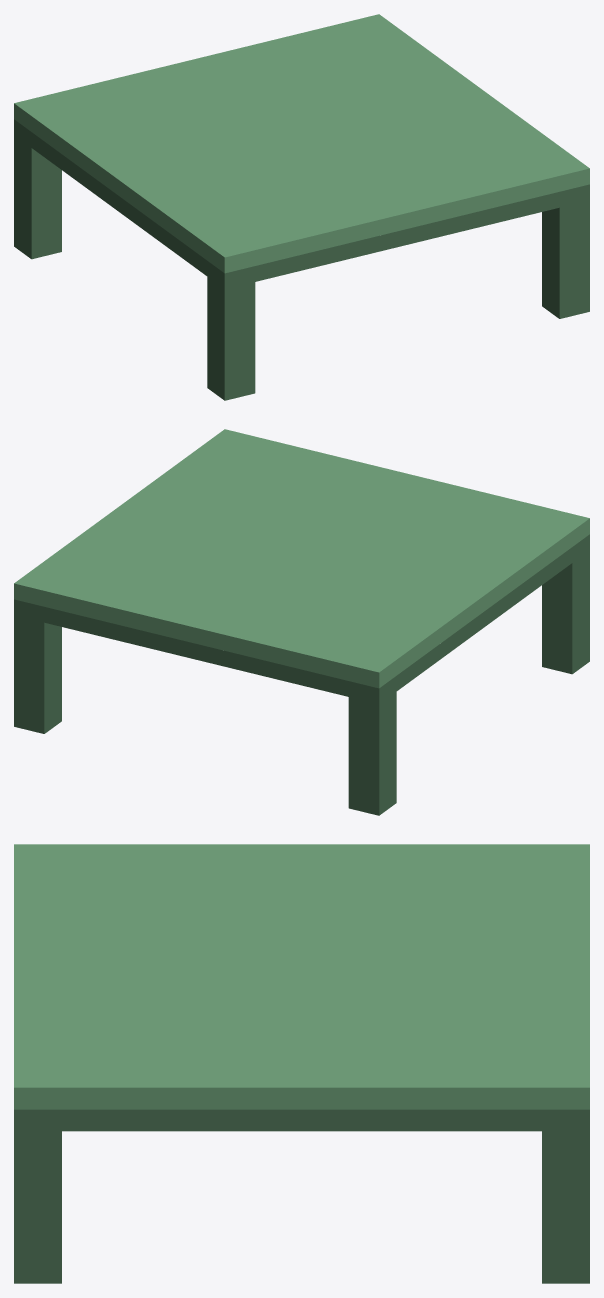
Rendered from mesa_dados_apuestas_01.glb.
The picture shows the model from 3 angles, top to bottom: view 1: azimuth 30°, elevation 25°; view 2: azimuth 150°, elevation 25°; view 3: azimuth 270°, elevation 25°; orthographic projection. The views are drawn at different scales.
Parts seen in each view (by area): view 1: mesa_dados_apuestas; view 2: mesa_dados_apuestas; view 3: mesa_dados_apuestas.
Part boxes in pixels (x1,y1,x2,y2): mesa_dados_apuestas: (14, 14, 589, 400); mesa_dados_apuestas: (14, 429, 589, 815); mesa_dados_apuestas: (14, 844, 589, 1283).
Size of the model in its own units: 2 by 0.75 by 2.
